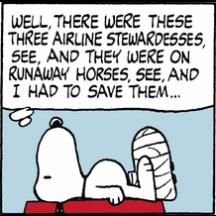snoopy: (34, 115, 178, 214)
